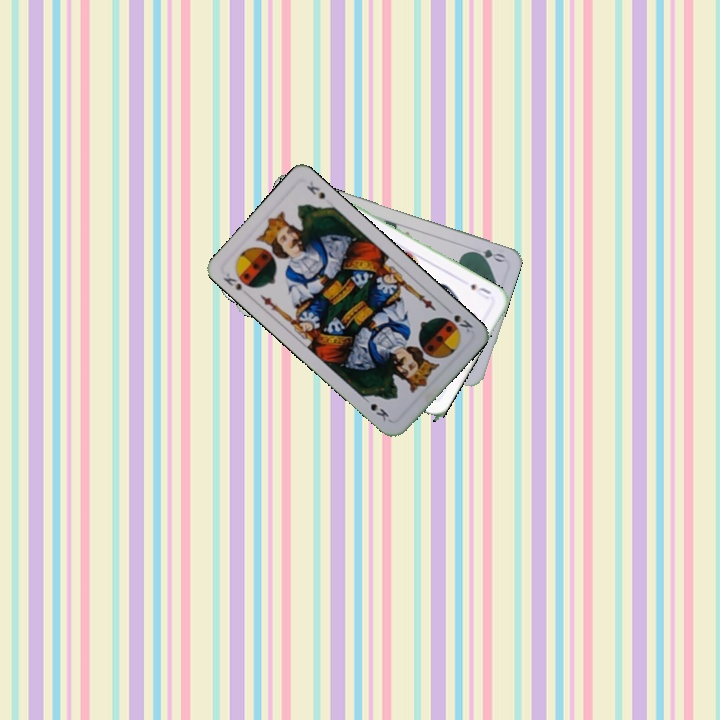GO: (466, 245, 507, 265)
SK: (219, 268, 256, 293), (450, 311, 476, 335)
SU: (467, 279, 493, 302)
